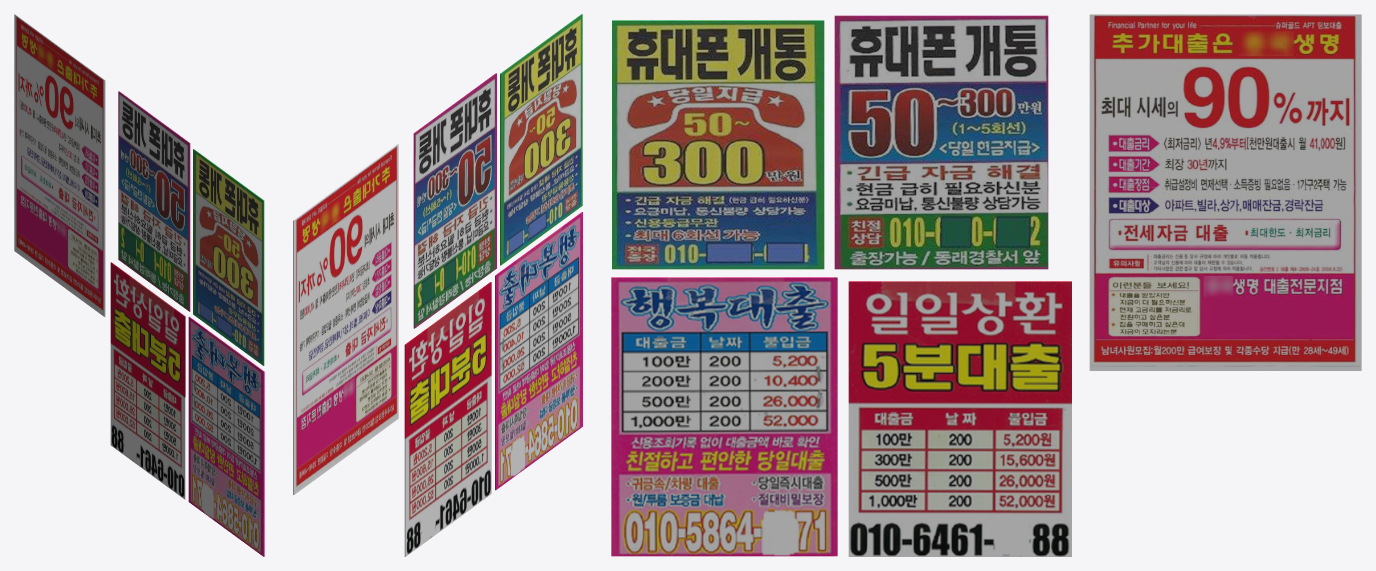
File: 불법전단지.fbx
The picture shows the model from 3 angles, left to right: view 1: azimuth 30°, elevation 25°; view 2: azimuth 150°, elevation 25°; view 3: azimuth 270°, elevation 25°; orthographic projection. The views are drawn at different scales.
Parts seen in each view (by area): view 1: 불법전단지_대출, 불법전단지_대출2, 불법전단지_대출3, 불법전단지_개통, 불법전단지_개통2; view 2: 불법전단지_대출, 불법전단지_대출2, 불법전단지_대출3, 불법전단지_개통, 불법전단지_개통2; view 3: 불법전단지_대출, 불법전단지_대출2, 불법전단지_대출3, 불법전단지_개통, 불법전단지_개통2.
Boxes of the visible parts, x1,y1,x2,y2 form: 불법전단지_대출: (14, 14, 105, 316); 불법전단지_대출2: (188, 316, 264, 556); 불법전단지_대출3: (110, 262, 185, 499); 불법전단지_개통: (118, 91, 190, 311); 불법전단지_개통2: (193, 149, 264, 365); 불법전단지_대출: (293, 144, 398, 494); 불법전단지_대출2: (495, 212, 582, 490); 불법전단지_대출3: (404, 282, 491, 556); 불법전단지_개통: (413, 73, 496, 328); 불법전단지_개통2: (500, 14, 582, 265); 불법전단지_대출: (1089, 14, 1361, 370); 불법전단지_대출2: (611, 277, 837, 556); 불법전단지_대출3: (848, 281, 1071, 556); 불법전단지_개통: (834, 15, 1048, 269); 불법전단지_개통2: (612, 20, 824, 269).
Size of the model in its own units: 0.1312 by 52.93 by 66.34.
